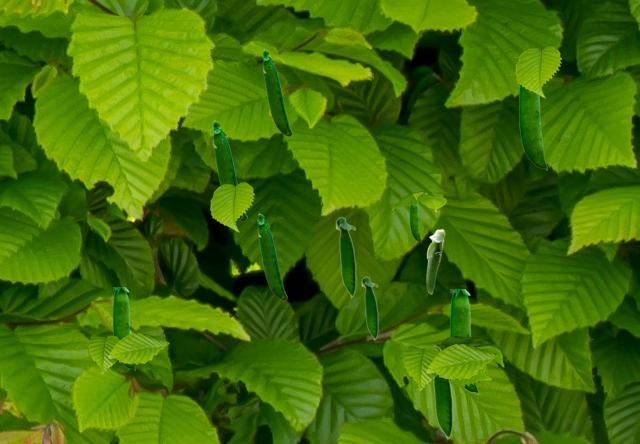pea: (212, 120, 246, 220), (450, 289, 477, 393), (257, 213, 286, 299), (262, 49, 291, 135), (519, 86, 546, 169), (433, 345, 452, 440), (113, 287, 134, 369), (335, 216, 355, 298), (426, 229, 444, 293), (361, 276, 377, 340), (410, 202, 420, 241)
